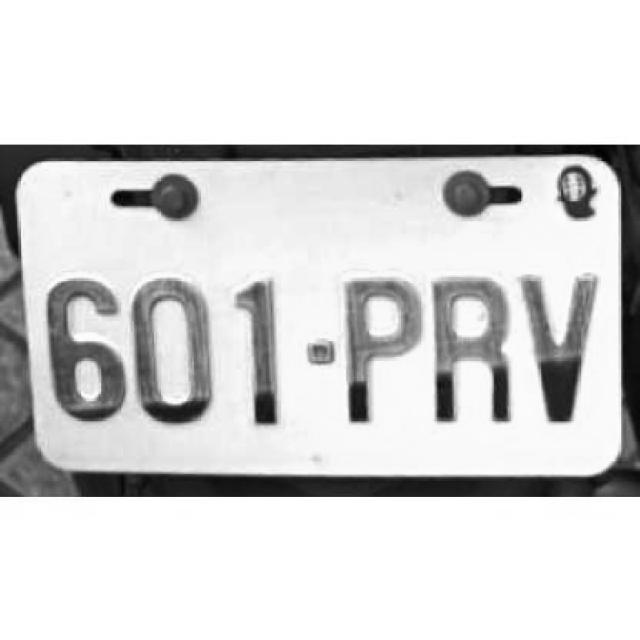-: (308, 334, 337, 366)
0: (130, 270, 212, 424)
1: (231, 274, 280, 424)
6: (40, 272, 128, 420)
P: (340, 269, 423, 434)
R: (430, 269, 512, 425)
V: (516, 262, 598, 426)
